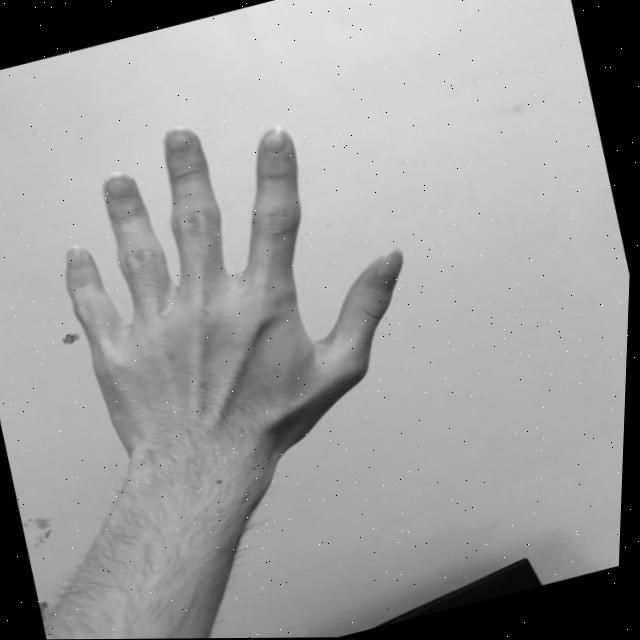no-gloves: (31, 77, 448, 480)
